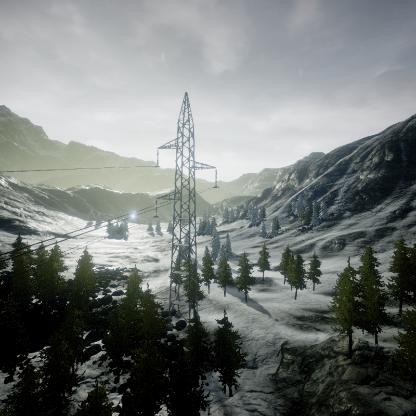tower: (154, 89, 220, 321)
